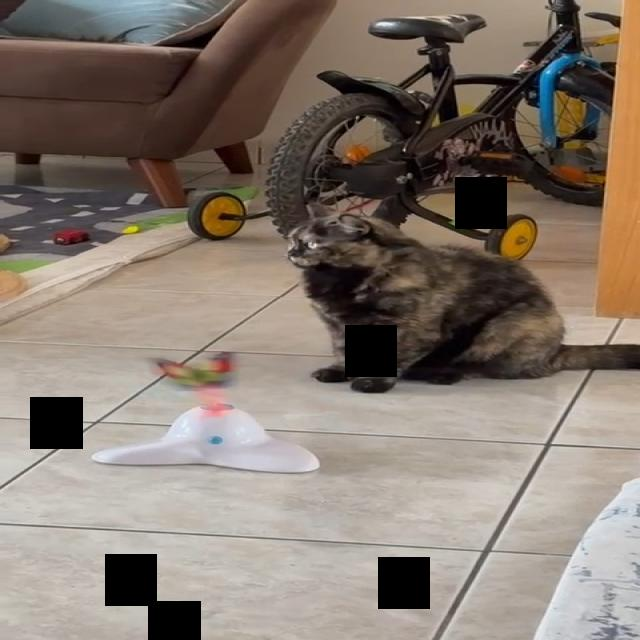authorized: (284, 201, 639, 393)
